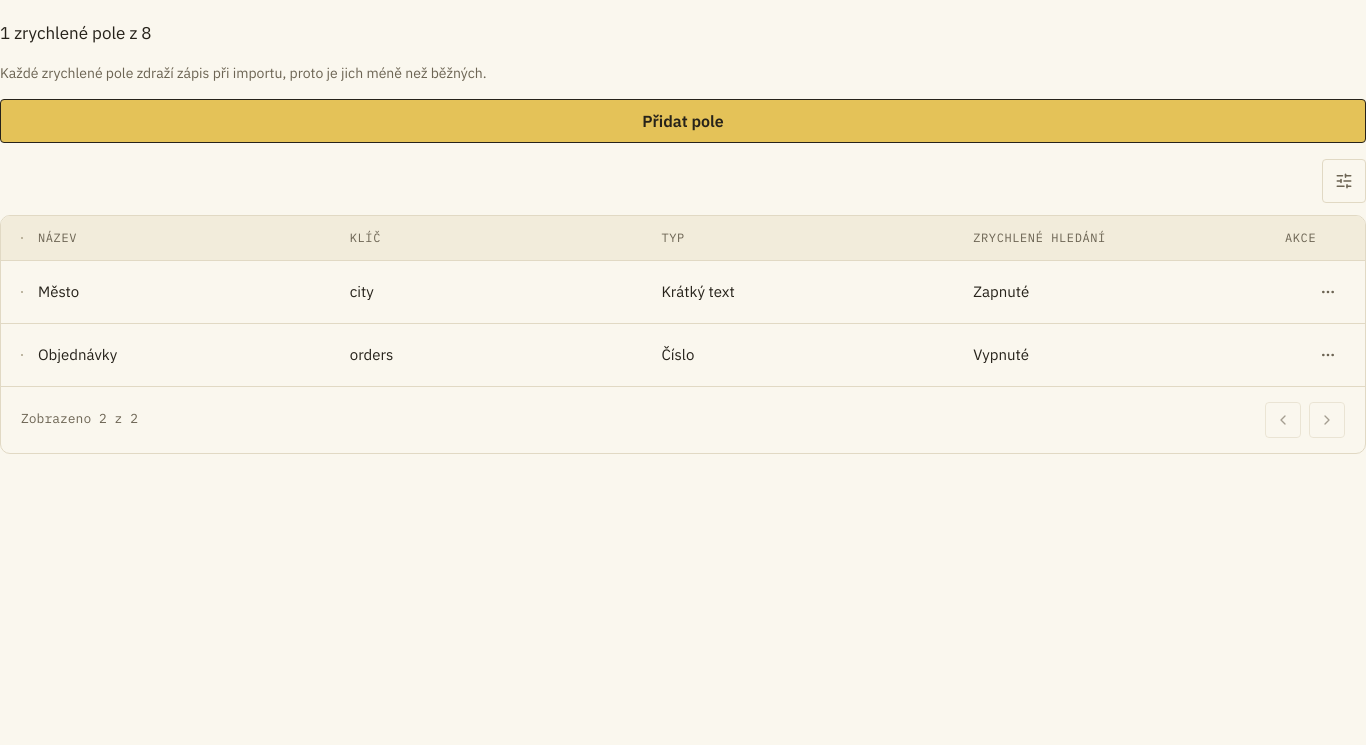
Test case: FieldsTable › typy se v dialogu nabízejí pojmenovaně, ne jmény z databáze
Click the button with test id "create-field" at (683,121), box x1=0 y1=99 x2=1365 y2=143
(page scrolled)
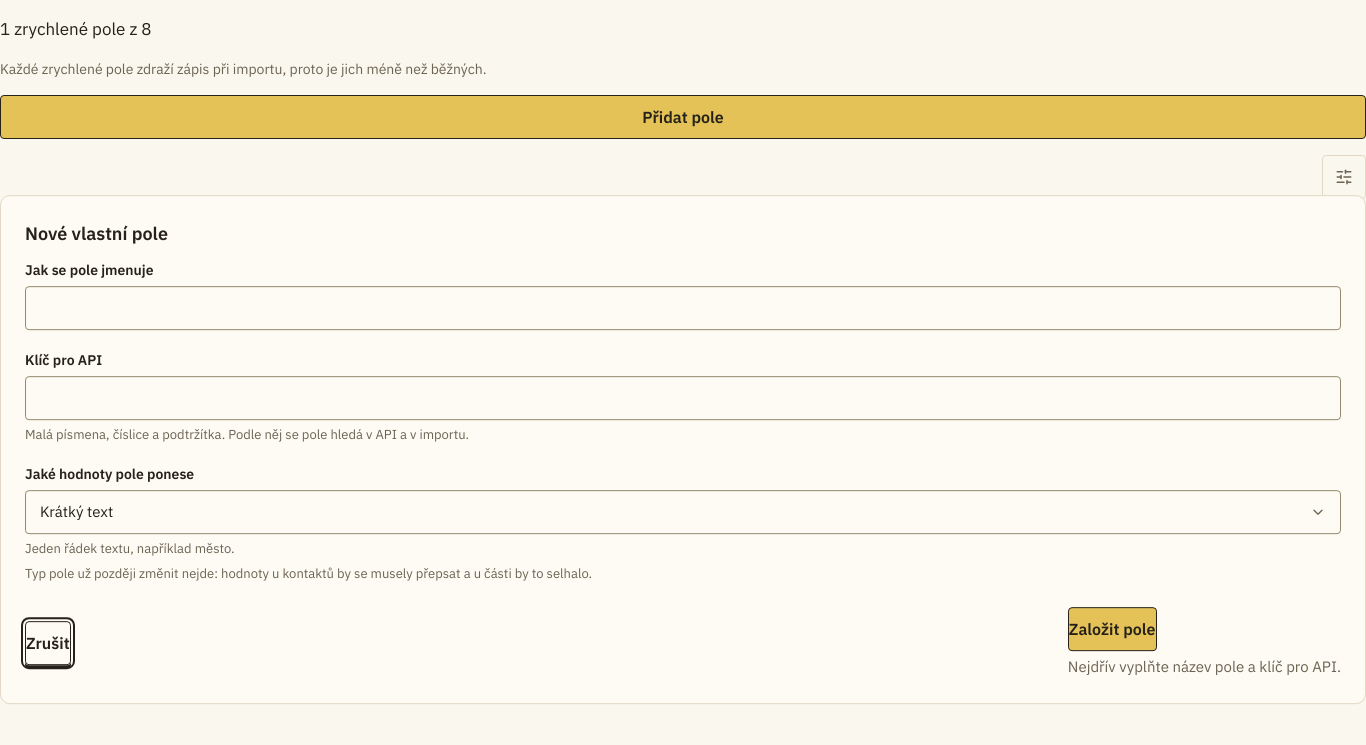
Click the dropdown named "Jaké hodnoty pole ponese" at (77,512), box x1=25 y1=490 x2=1341 y2=534
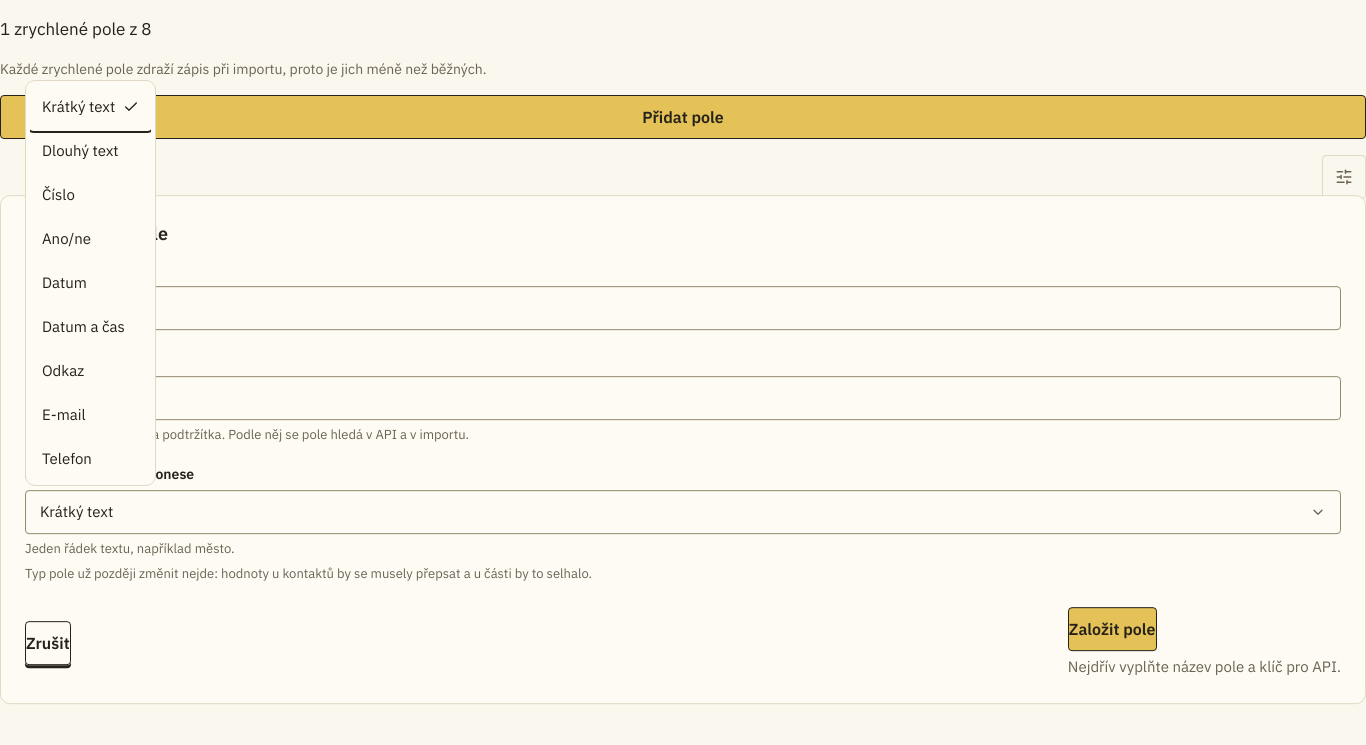
Expected: the option "Ano/ne" is shown, x1=42 y1=229 x2=91 y2=248
